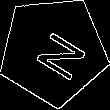N_NW: (22, 20, 85, 81)
